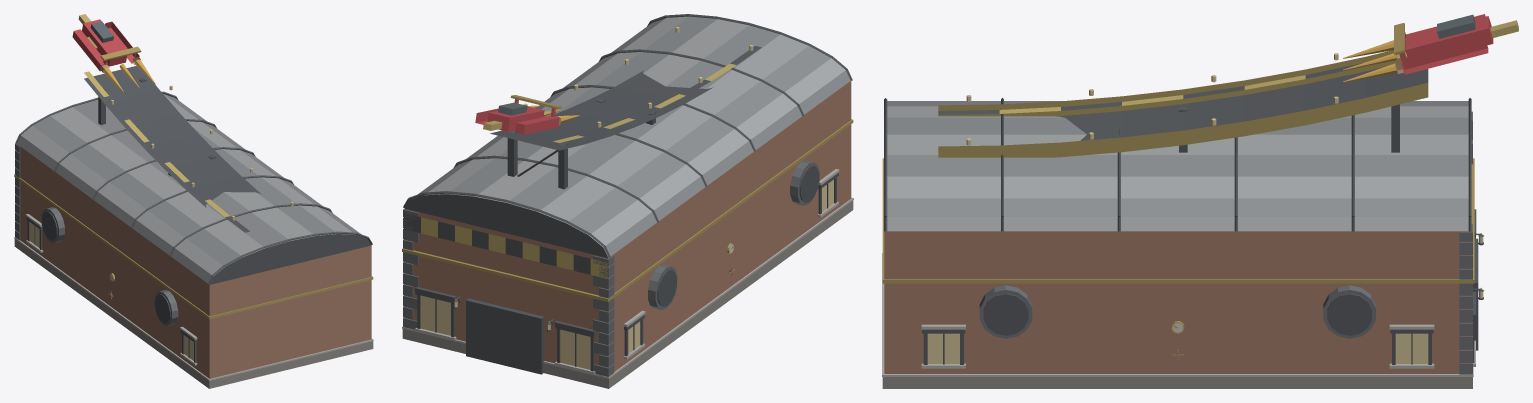
File: centro-corrida-cb7e970d.glb
The picture shows the model from 3 angles, left to right: view 1: azimuth 30°, elevation 25°; view 2: azimuth 150°, elevation 25°; view 3: azimuth 270°, elevation 25°; orthographic projection. The views are drawn at different scales.
Visible parts, largest first — view 1: centro_corrida_body, centro_corrida_wall, centro_corrida_glow, centro_corrida_lamp; view 2: centro_corrida_body, centro_corrida_wall, centro_corrida_lamp, centro_corrida_glow; view 3: centro_corrida_body, centro_corrida_wall, centro_corrida_glow, centro_corrida_lamp.
Part boxes in pixels (left/top/right/bottom): centro_corrida_body: left=14, top=66, right=373, bottom=380; centro_corrida_wall: left=14, top=144, right=373, bottom=388; centro_corrida_glow: left=72, top=14, right=155, bottom=91; centro_corrida_lamp: left=30, top=85, right=293, bottom=360; centro_corrida_body: left=402, top=14, right=853, bottom=378; centro_corrida_wall: left=402, top=81, right=853, bottom=388; centro_corrida_lamp: left=420, top=27, right=833, bottom=369; centro_corrida_glow: left=475, top=95, right=579, bottom=134; centro_corrida_body: left=882, top=50, right=1484, bottom=376; centro_corrida_wall: left=882, top=231, right=1472, bottom=388; centro_corrida_glow: left=1343, top=14, right=1518, bottom=82; centro_corrida_lamp: left=927, top=53, right=1483, bottom=363.
Size of the model in its own units: 11.42 by 12.63 by 23.53.
